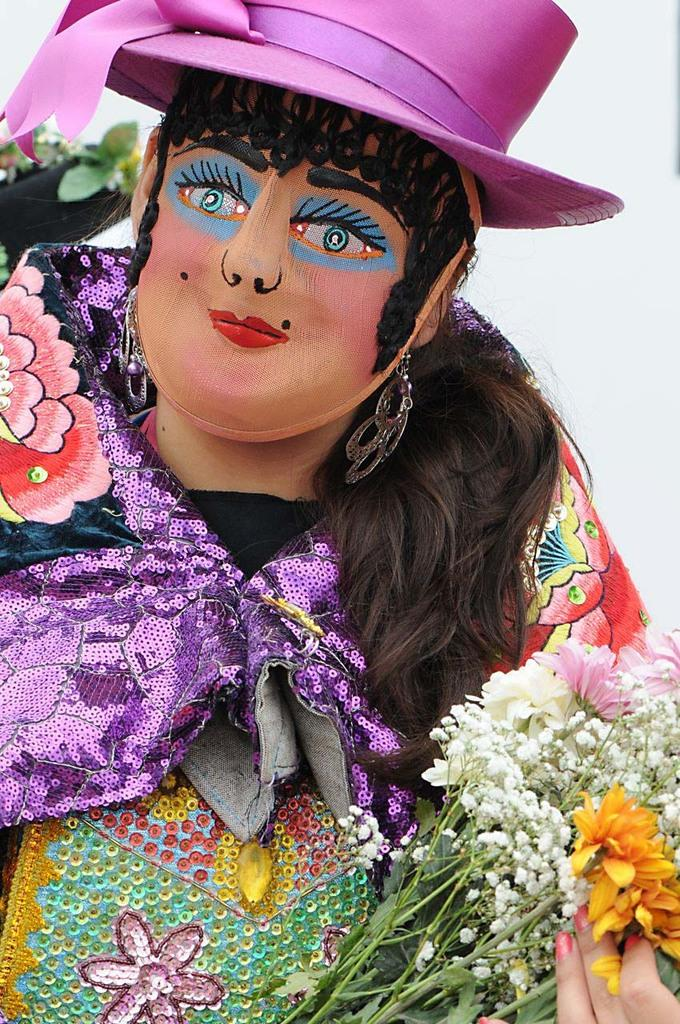Hat: (0, 0, 623, 230)
